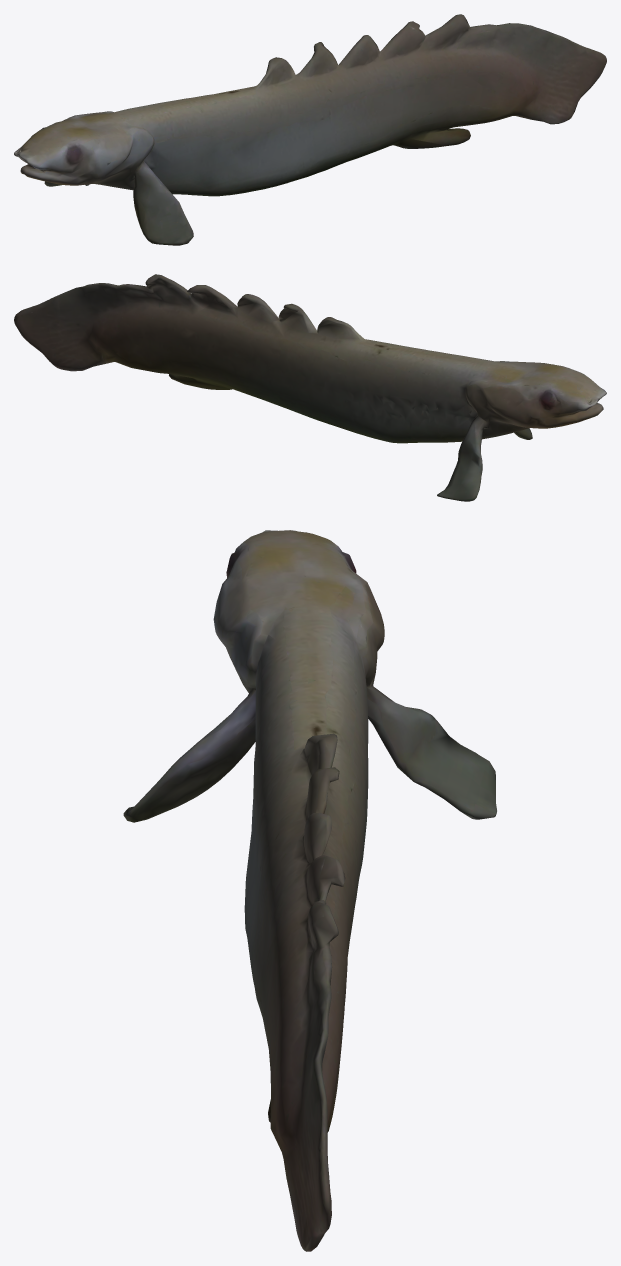
File: bichir.glb
3 views of the same model, one above another, from view 1: azimuth 30°, elevation 25°; view 2: azimuth 150°, elevation 25°; view 3: azimuth 270°, elevation 25° (orthographic). The views are drawn at different scales.
Parts seen in each view (by area): view 1: geometry_0; view 2: geometry_0; view 3: geometry_0.
Boxes of the visible parts, left/top/right/bottom form: geometry_0: left=14, top=14, right=606, bottom=245; geometry_0: left=14, top=274, right=606, bottom=501; geometry_0: left=123, top=530, right=496, bottom=1251.
Bounding box in the file's own units: 1 × 0.2108 × 0.2806.
1 material, 1 textured.
